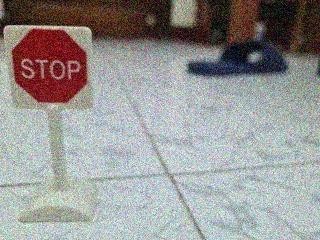stop: (2, 16, 100, 120)
